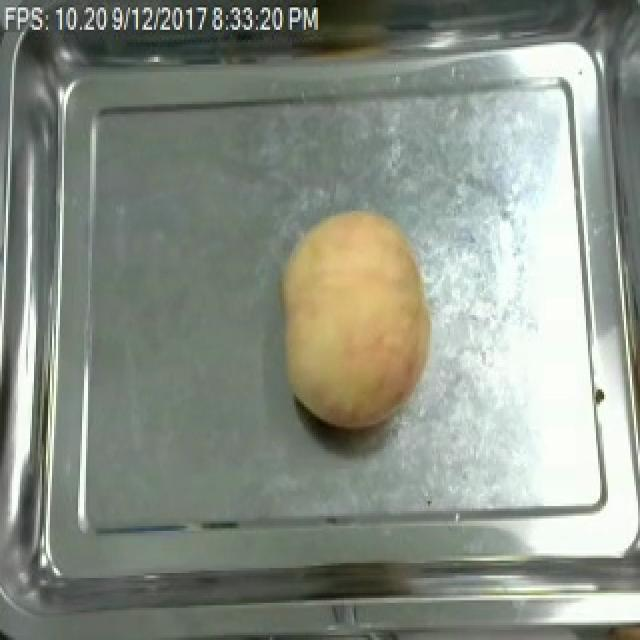Fruit: (268, 201, 442, 437)
